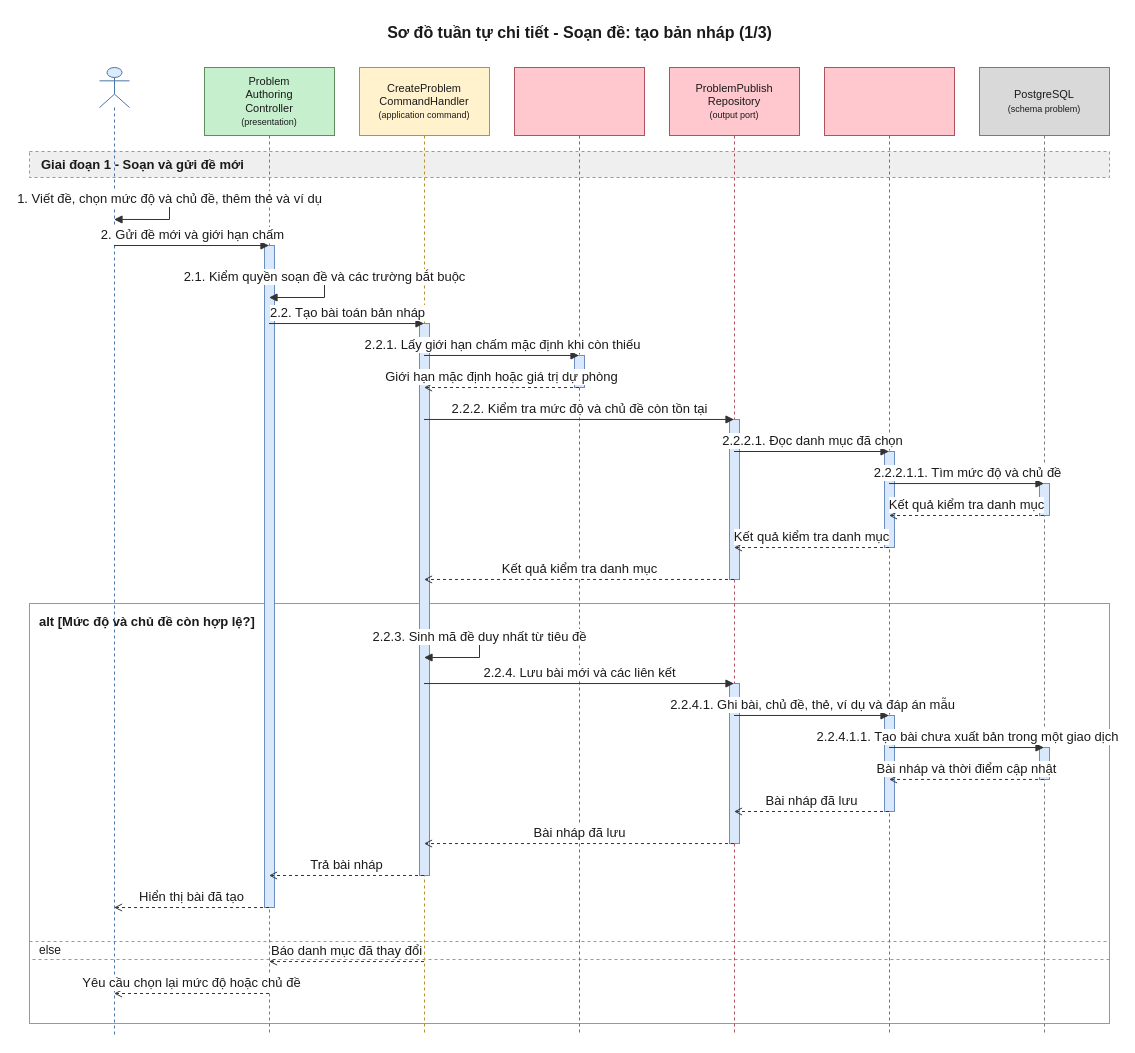
Some shapes in this 1135 by 1053 pixel diagram are drawn without their labels. Here are the shapes that lost their labels. From the top down, the box of each, then its label:
(98, 66, 130, 1036): Người soạn đề
(514, 66, 644, 1036): JudgeConfigRead Port (judge output port)
(824, 66, 954, 1036): JdbcProblem Publish Repository (persistence adapter)
